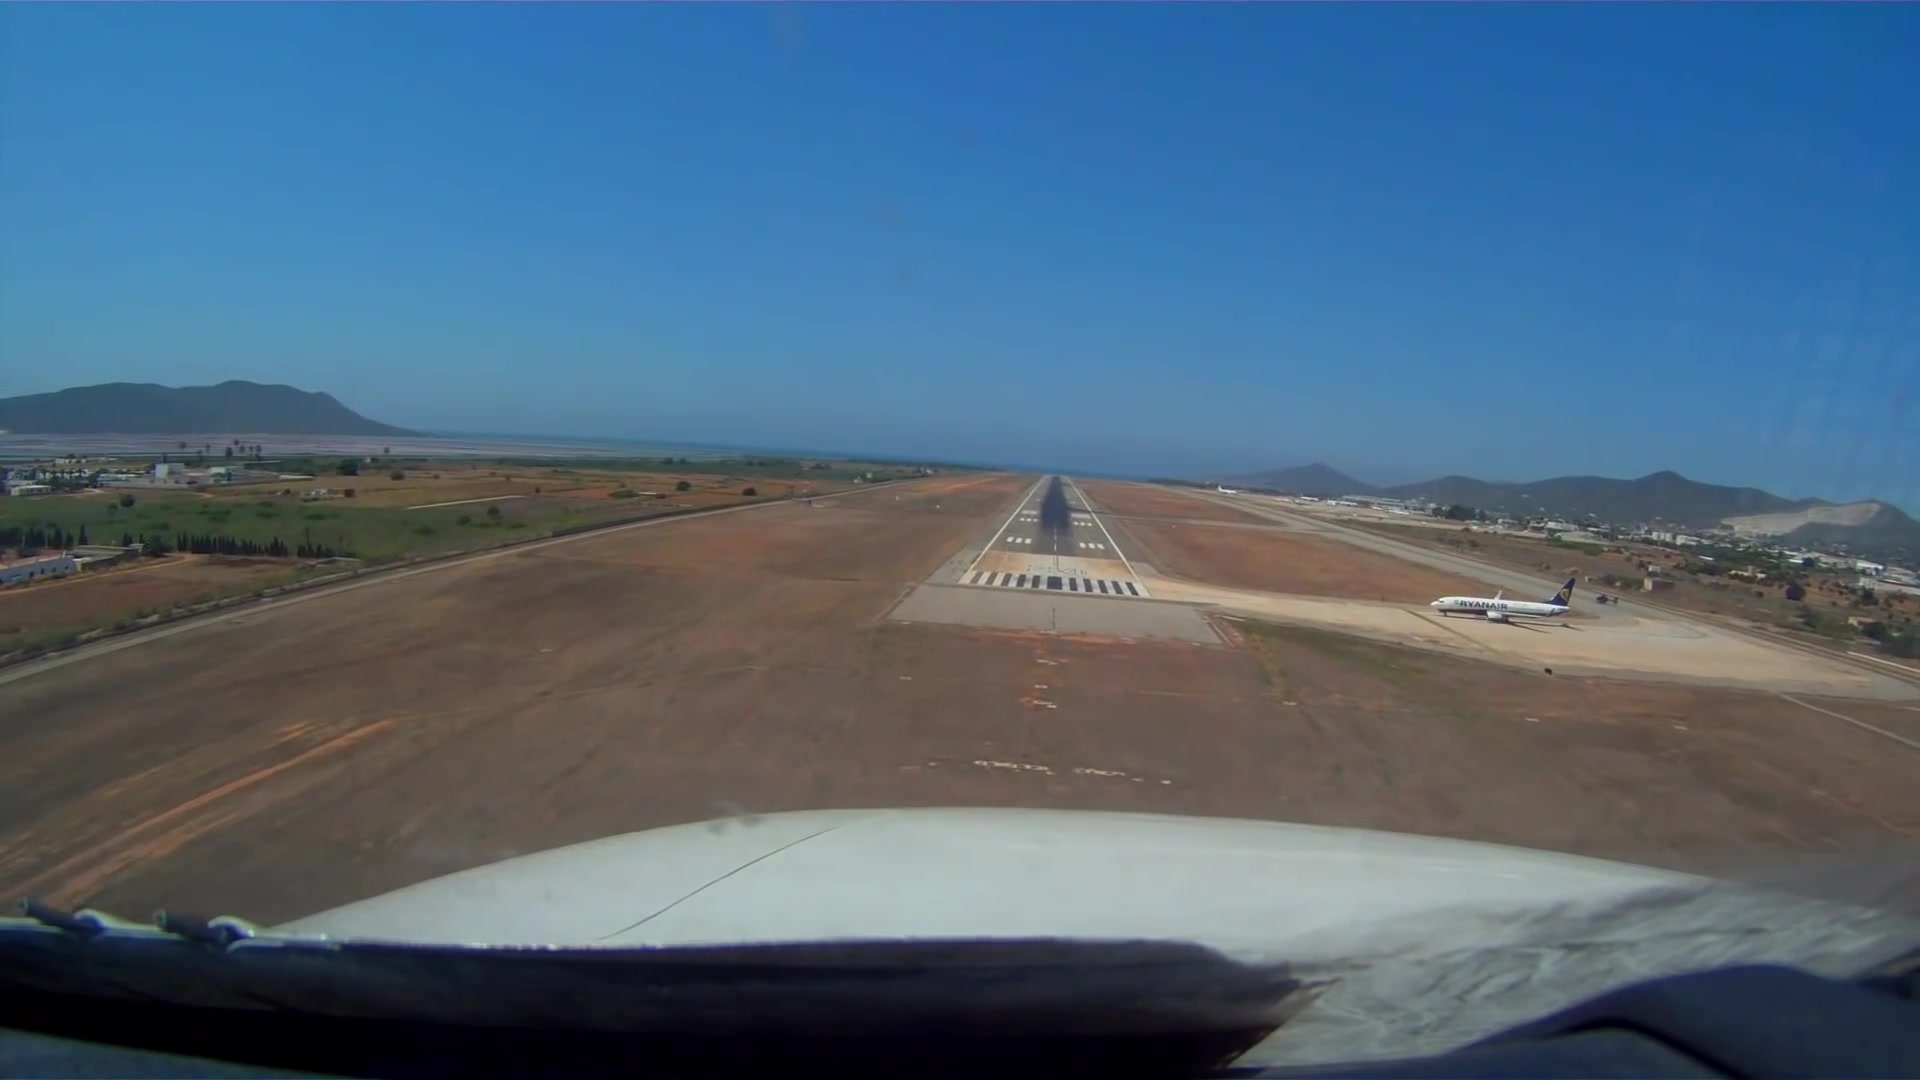entrance: (964, 568, 1139, 596)
runway: (963, 467, 1146, 600)
